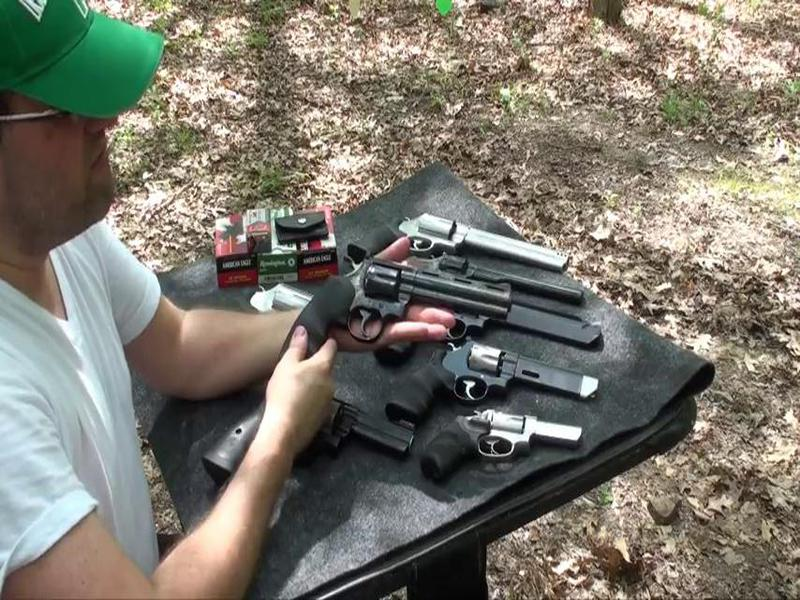Revolver: (277, 241, 485, 379)
